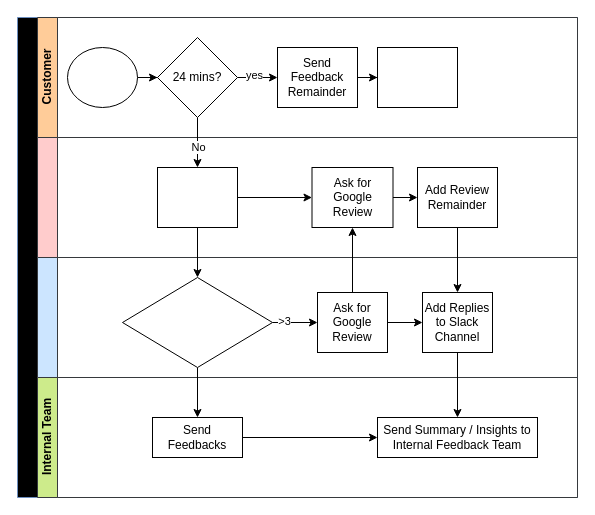
This 595x515 diagram has some shape labels left out. The box of each missing label's shape, as (x1, y1, x2, y2) in pixels:
Ask for Telegram Rating: (122, 276, 272, 368)
Automation: (36, 256, 578, 378)
Capture Phone Number: (156, 166, 238, 228)
Customer Places an order: (66, 46, 138, 108)
POS Sys.: (36, 136, 578, 258)
Send Offers for the day: (376, 46, 458, 108)
